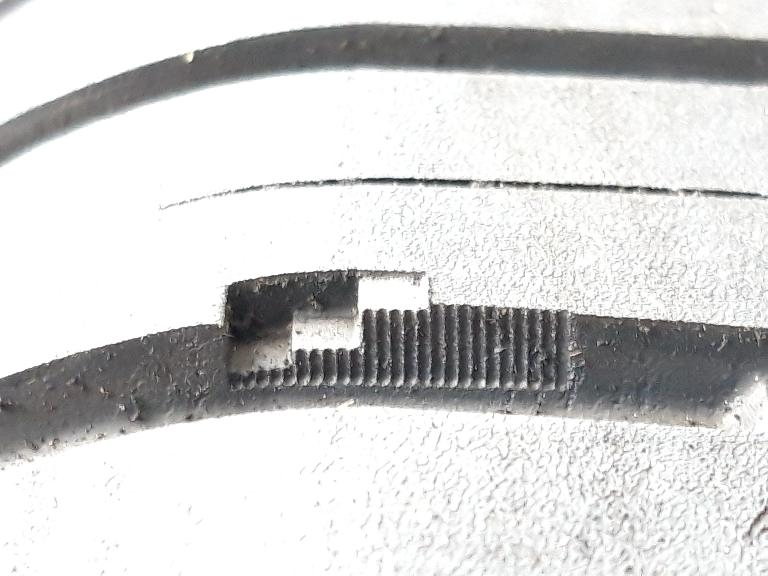temoin:50: (210, 260, 446, 406)
